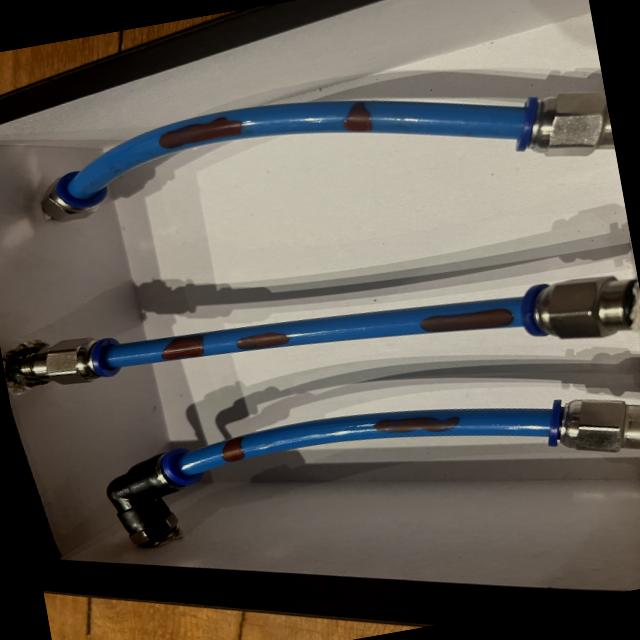hose_damage: (152, 112, 249, 152), (416, 305, 516, 335), (371, 412, 463, 434), (158, 328, 208, 368), (234, 325, 294, 355), (337, 95, 376, 140), (218, 434, 249, 464)
